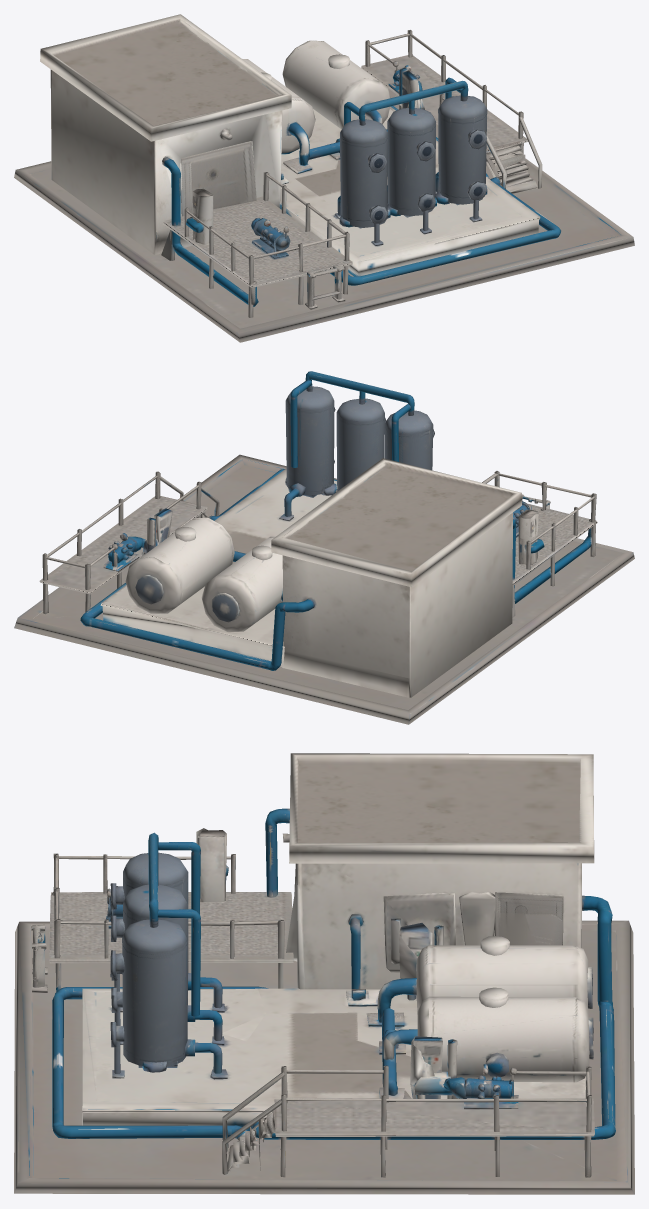
The model's file is su arıtma tesisi.fbx.
3 renders of one model, top to bottom at view 1: azimuth 30°, elevation 25°; view 2: azimuth 150°, elevation 25°; view 3: azimuth 270°, elevation 25°, orthographic. The views are drawn at different scales.
Visible parts, largest first — view 1: Mesh_0; view 2: Mesh_0; view 3: Mesh_0.
Part boxes in pixels (<box>): Mesh_0: <box>14,14,634,342</box>; Mesh_0: <box>14,371,634,724</box>; Mesh_0: <box>14,753,634,1194</box>.
Size of the model in its own units: 100 by 38.48 by 99.78.
1 material, 1 textured.
